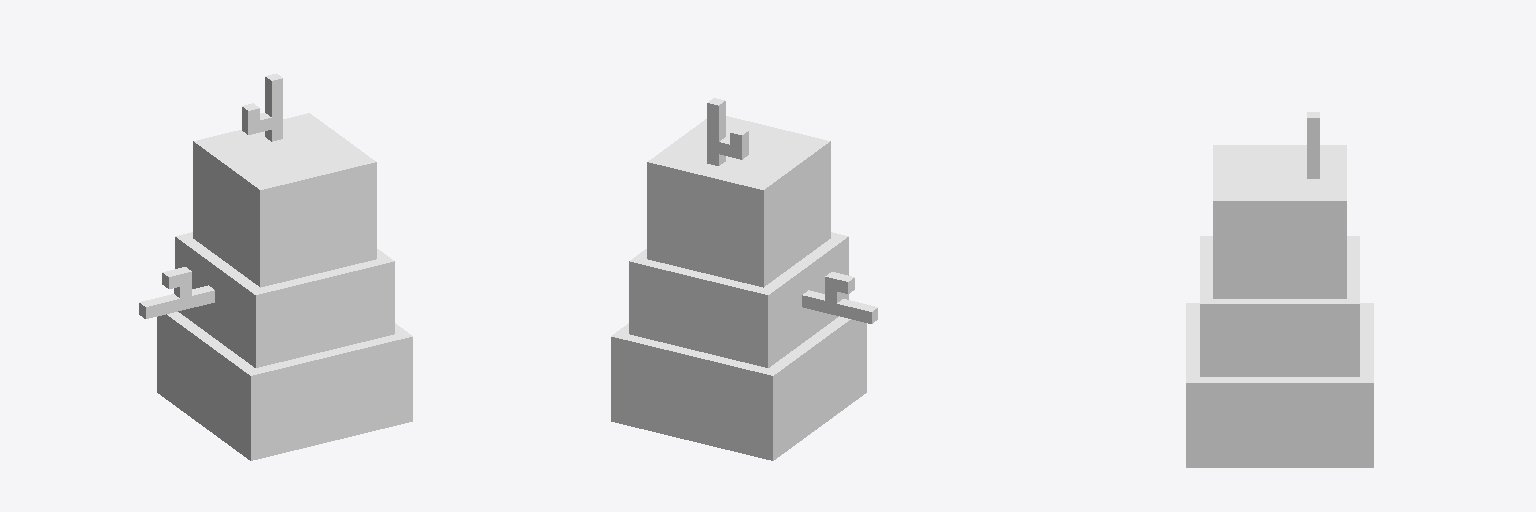
The model's file is snowman.obj.
3 views of the same model, side by side, from view 1: azimuth 30°, elevation 25°; view 2: azimuth 150°, elevation 25°; view 3: azimuth 270°, elevation 25° (orthographic).
Parts seen in each view (by area): view 1: object 1; view 2: object 1; view 3: object 1.
Part boxes in pixels (bbox=[...]): object 1: bbox=[139, 73, 412, 460]; object 1: bbox=[611, 98, 877, 460]; object 1: bbox=[1186, 112, 1373, 467].
Bounding box in the file's own units: 1.9 × 2.6 × 1.4.